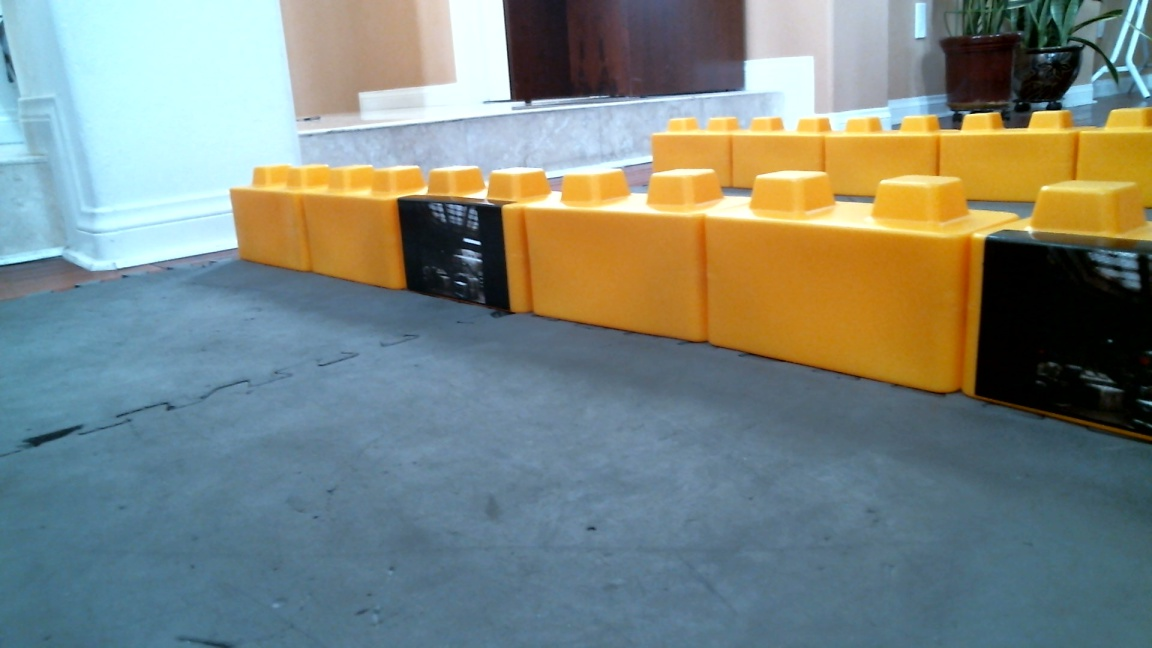skystone: (983, 180, 1152, 408), (396, 159, 522, 329)
stone: (702, 176, 969, 351), (534, 165, 716, 310), (296, 173, 403, 286), (231, 164, 315, 253)
